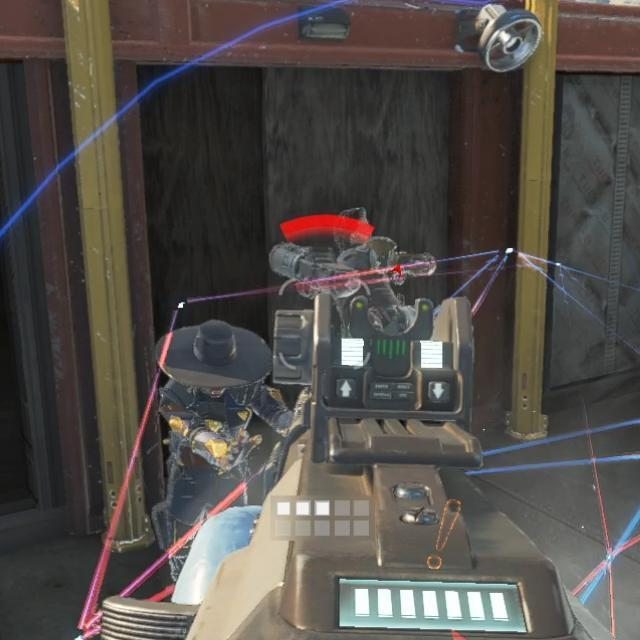avatar: (152, 321, 274, 508)
